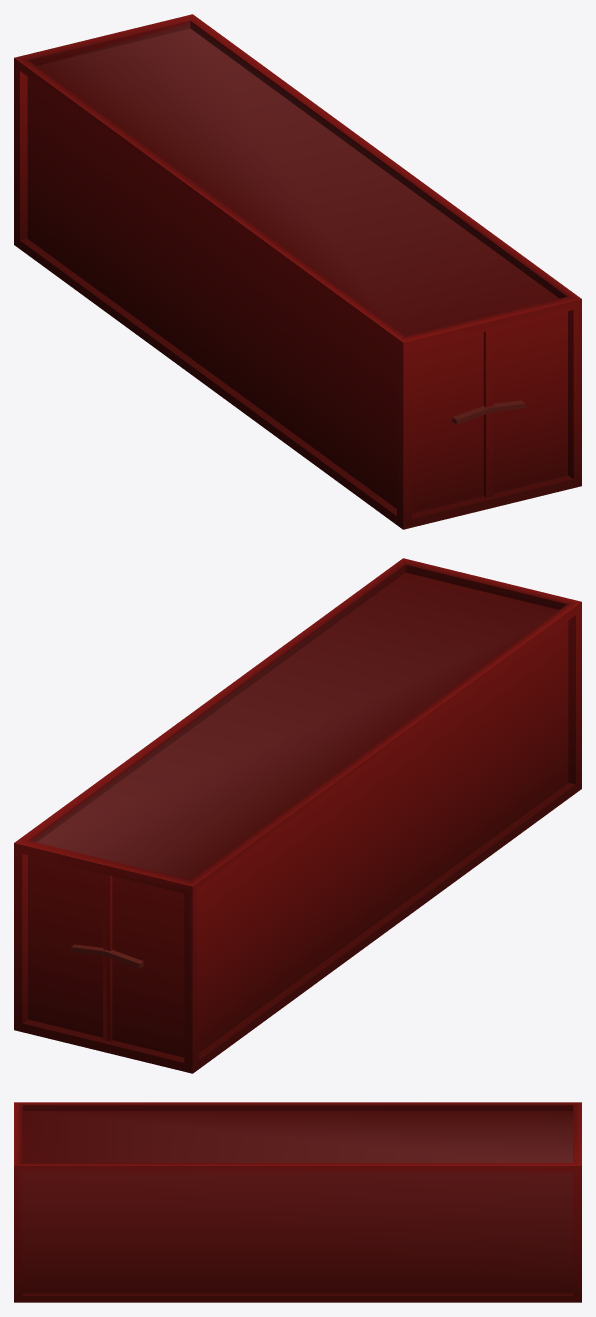
File: Conteiner.fbx
3 views of the same model, one above another, from view 1: azimuth 30°, elevation 25°; view 2: azimuth 150°, elevation 25°; view 3: azimuth 270°, elevation 25° (orthographic). The views are drawn at different scales.
Visible parts, largest first — view 1: LOD_0; view 2: LOD_0; view 3: LOD_0.
Boxes of the visible parts, left/top/right/bottom form: LOD_0: left=14, top=14, right=581, bottom=529; LOD_0: left=14, top=558, right=581, bottom=1073; LOD_0: left=14, top=1102, right=581, bottom=1302.
Size of what is drawn, in the model's own units: 286 by 286 by 1077.
